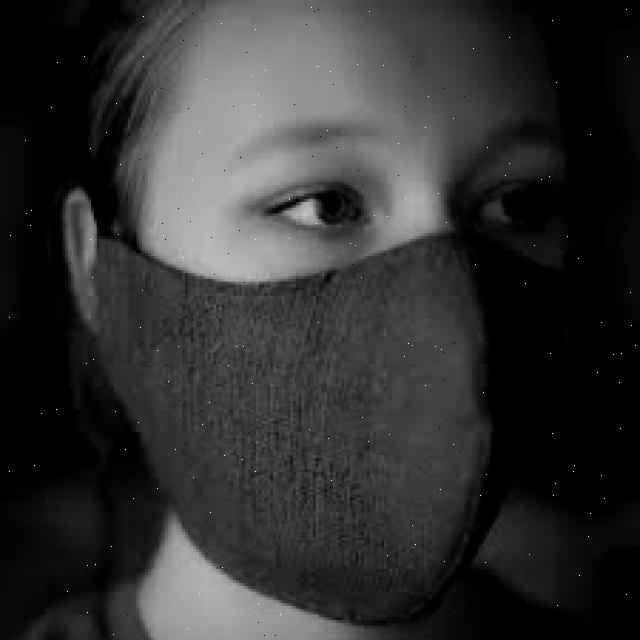fake: (72, 230, 618, 640)
real: (142, 3, 577, 630)
